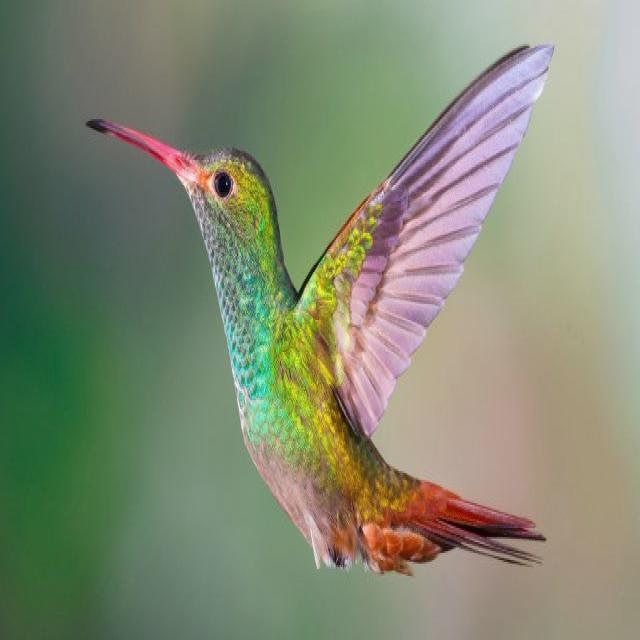hummingbird: (88, 44, 553, 572)
